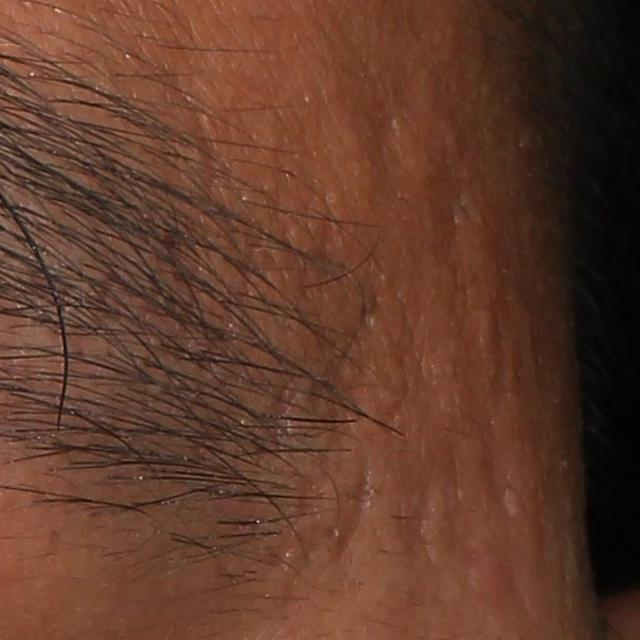atrophic_scar: (432, 157, 509, 529), (329, 440, 377, 549), (398, 475, 443, 550)
